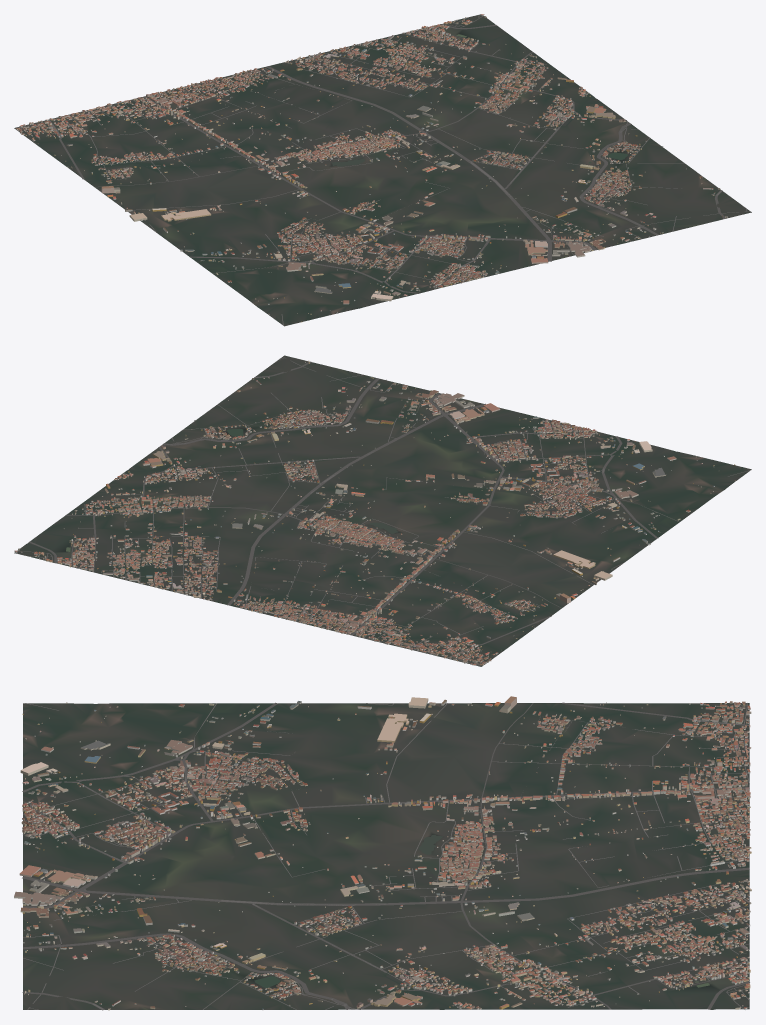
3 renders of one model, top to bottom at view 1: azimuth 30°, elevation 25°; view 2: azimuth 150°, elevation 25°; view 3: azimuth 270°, elevation 25°, orthographic. The views are drawn at different scales.
Parts seen in each view (by area): view 1: ground, buildings, roads; view 2: ground, buildings, roads; view 3: ground, buildings, roads, water.
Part boxes in pixels (x1=…): ground: x1=14, y1=14, x2=751, y2=326; buildings: x1=15, y1=14, x2=727, y2=322; roads: x1=15, y1=15, x2=749, y2=325; ground: x1=14, y1=355, x2=751, y2=666; buildings: x1=14, y1=360, x2=735, y2=665; roads: x1=17, y1=357, x2=750, y2=666; ground: x1=23, y1=703, x2=749, y2=1009; buildings: x1=14, y1=696, x2=751, y2=1010; roads: x1=22, y1=702, x2=749, y2=1010; water: x1=254, y1=804, x2=709, y2=987.
Size of the model in its own units: 2839 by 34.94 by 2848.
